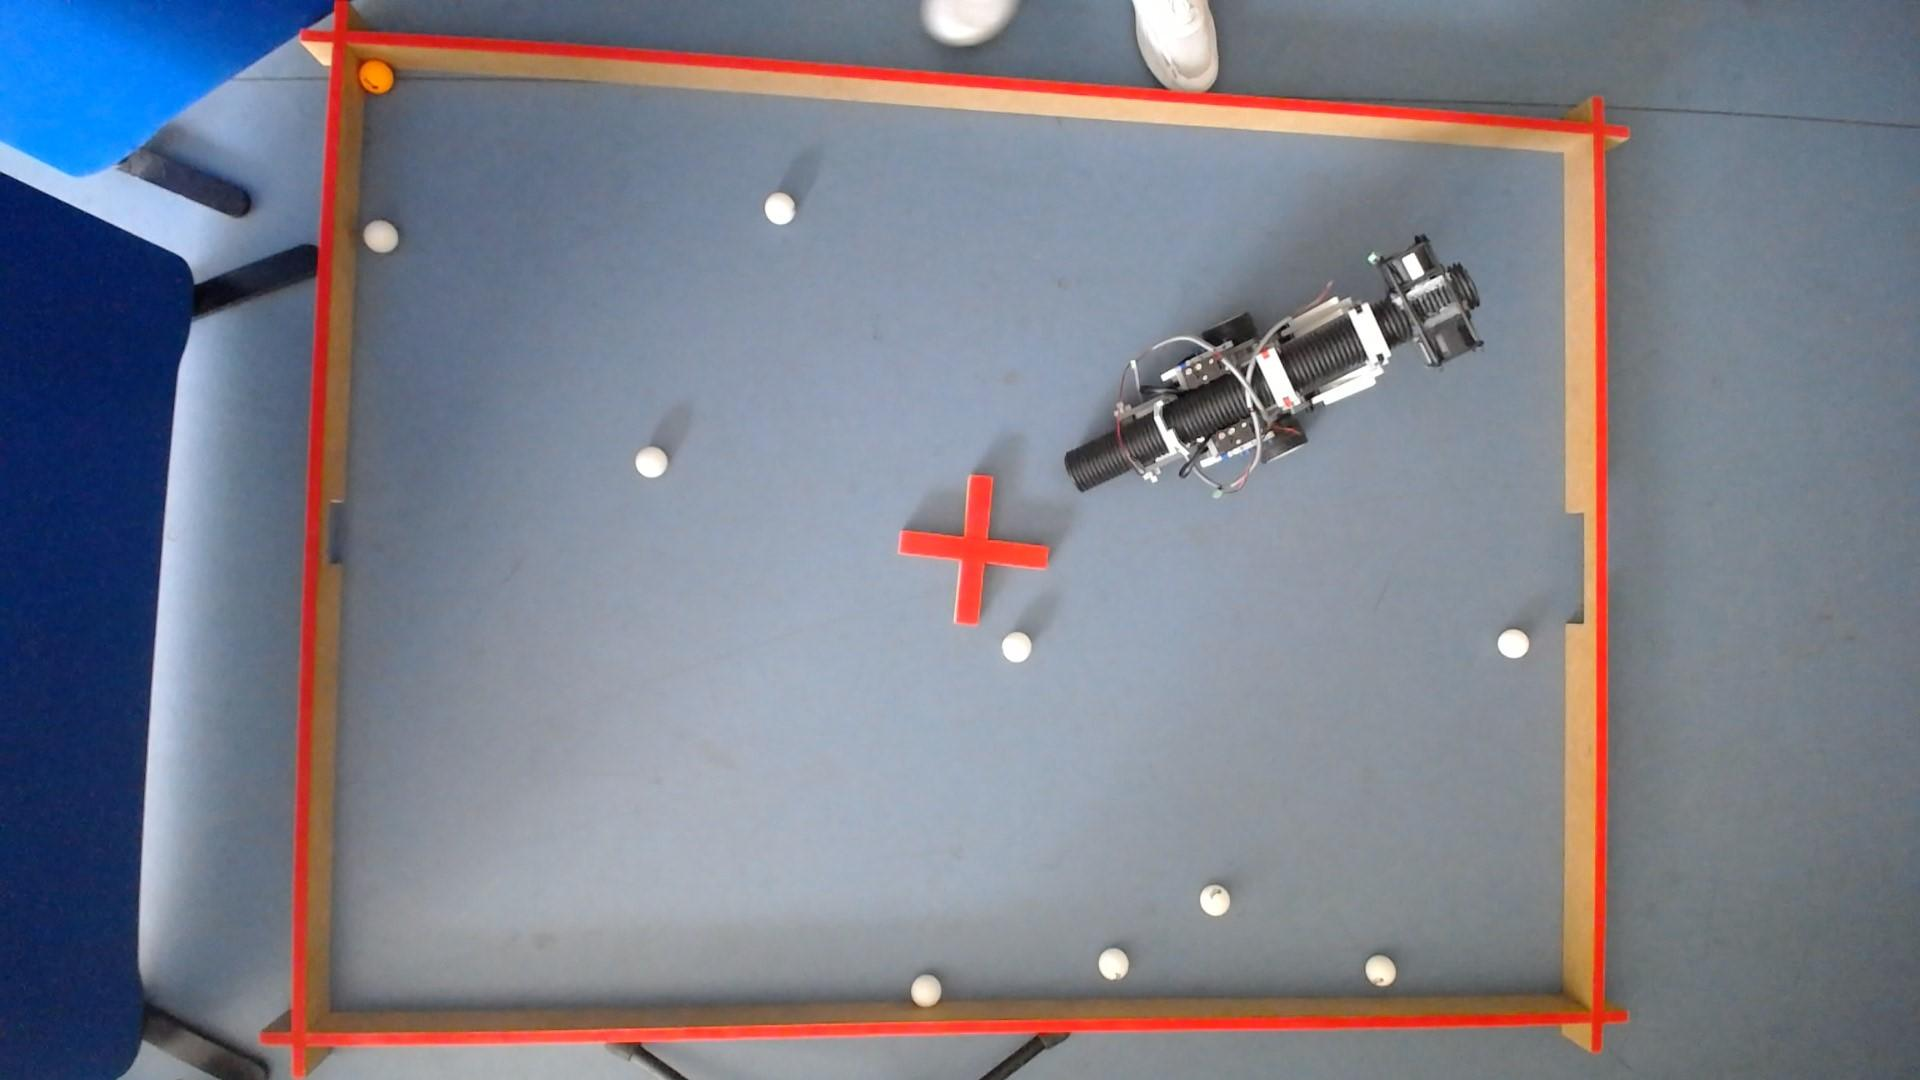orange: (356, 56, 392, 92)
robot: (1066, 232, 1485, 494)
white: (360, 217, 397, 251), (634, 443, 668, 476), (764, 189, 796, 222), (1499, 627, 1532, 658), (1367, 955, 1398, 988), (1002, 630, 1033, 662), (1201, 884, 1232, 916), (1099, 948, 1130, 980), (911, 976, 942, 1008)
